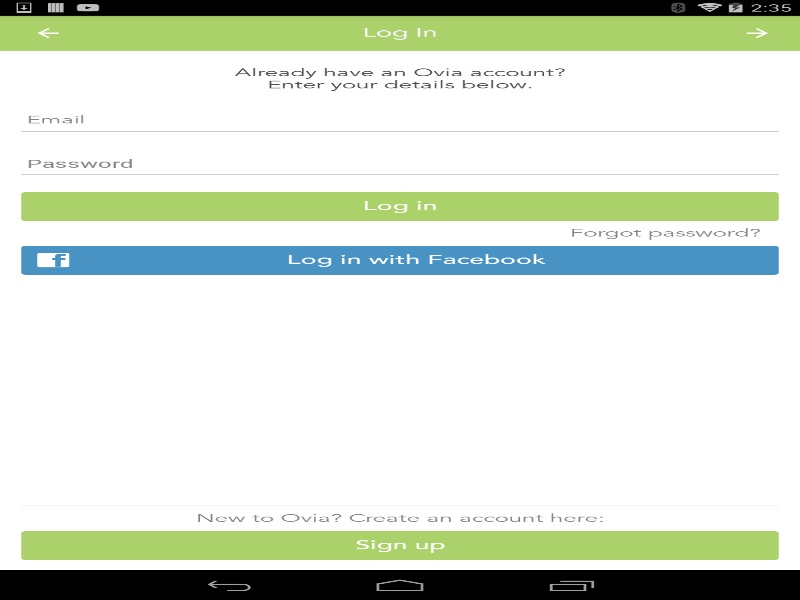Button: (21, 245, 778, 274), (21, 531, 778, 560), (21, 192, 778, 220), (10, 15, 85, 50)
Input: (21, 106, 778, 136), (21, 150, 778, 179)
